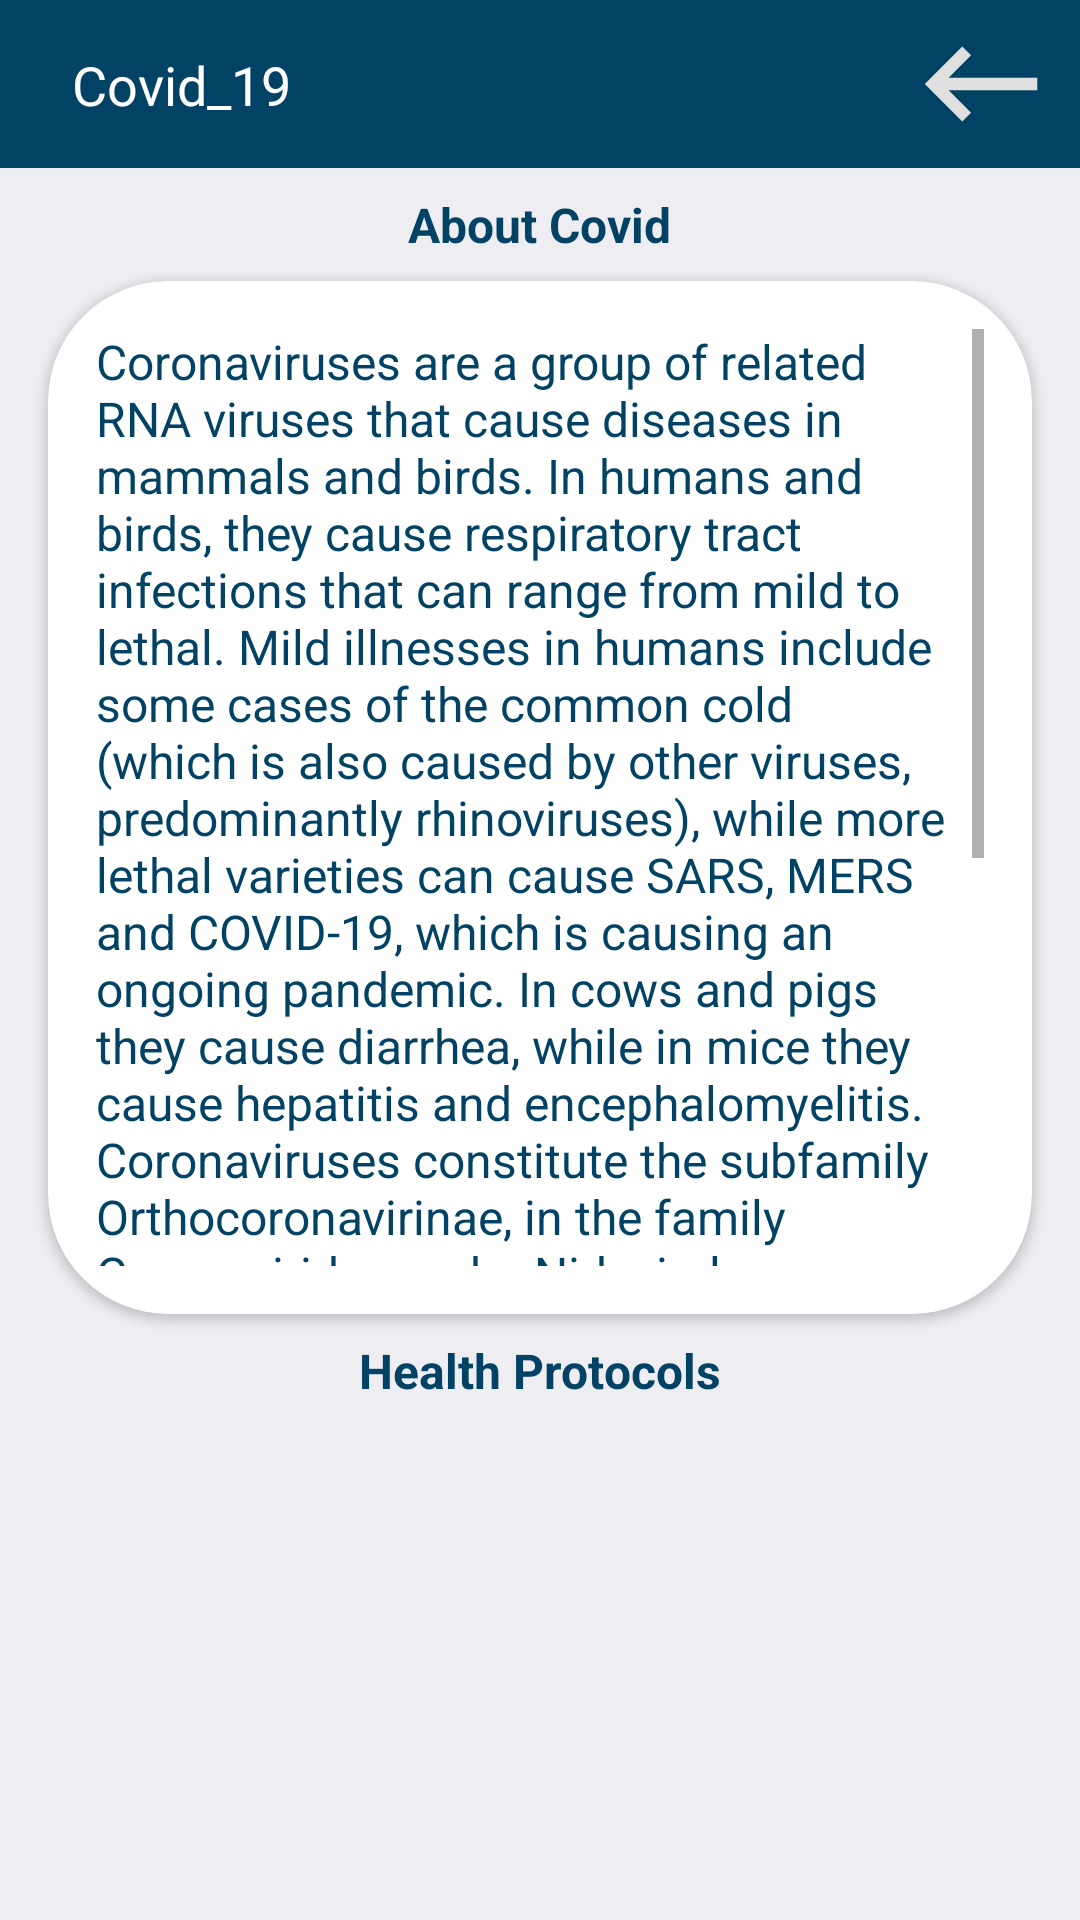

Named icons in this screenshot (1080 x 1920) and their centers, (x=x, y=y):
keyboard backspace: (x=981, y=84)
